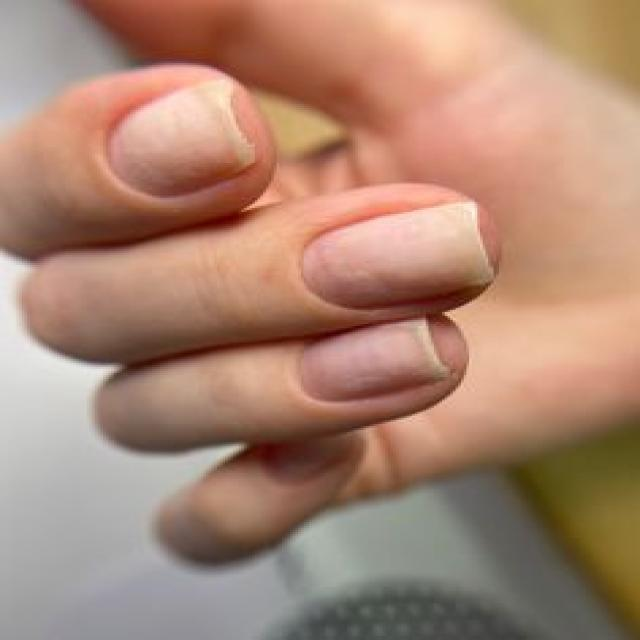Fingernail: (302, 203, 497, 312), (108, 82, 254, 198), (299, 315, 453, 401)
